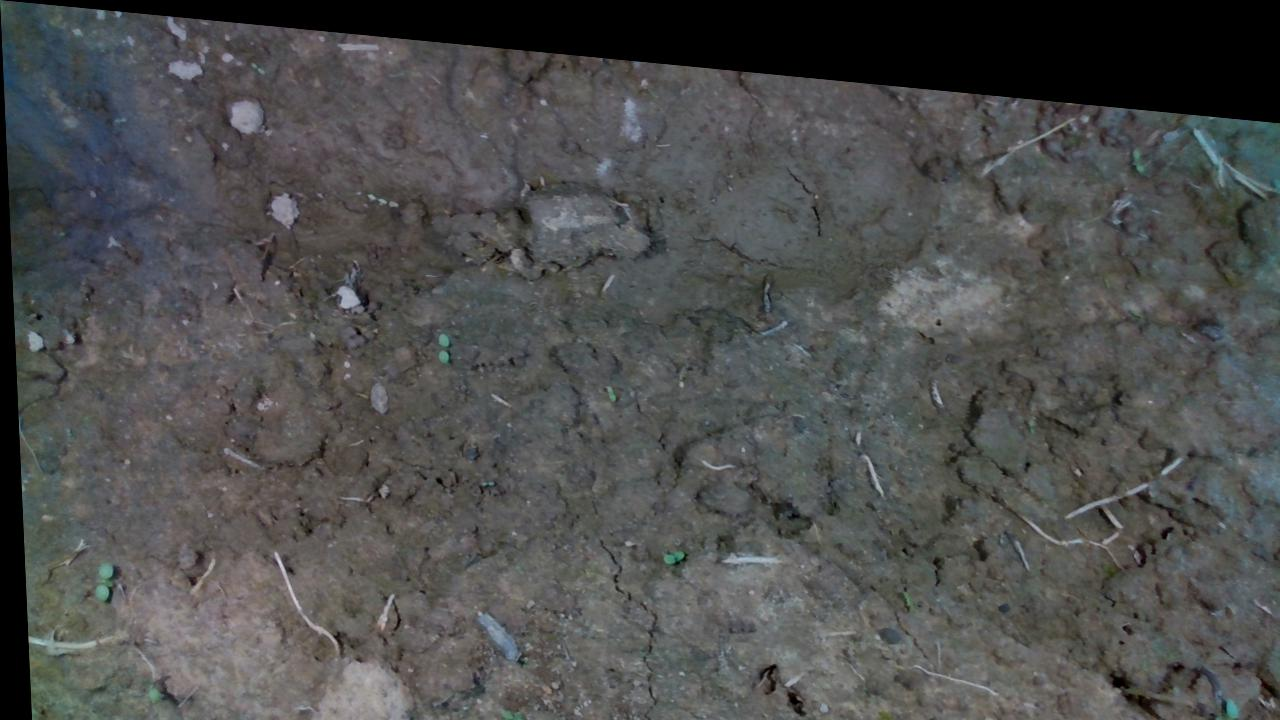weed: (1209, 666, 1242, 717), (81, 556, 113, 603), (488, 693, 533, 719), (655, 528, 686, 555), (426, 319, 447, 352), (594, 366, 610, 390)
